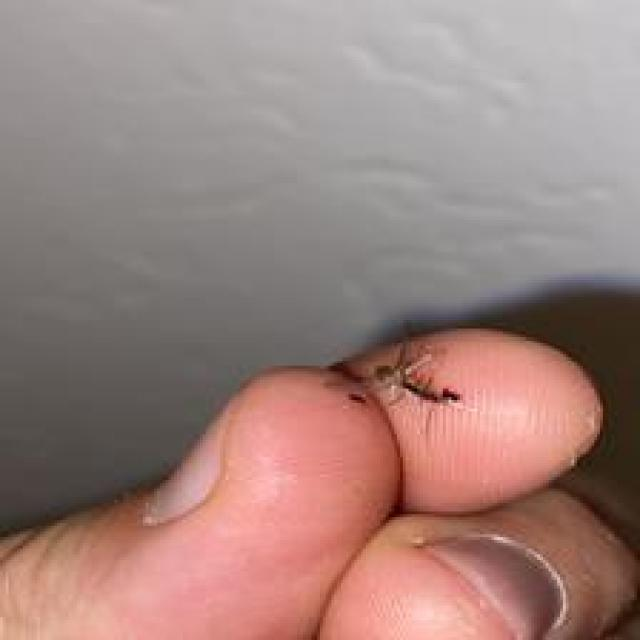Culex: (327, 327, 462, 413)
